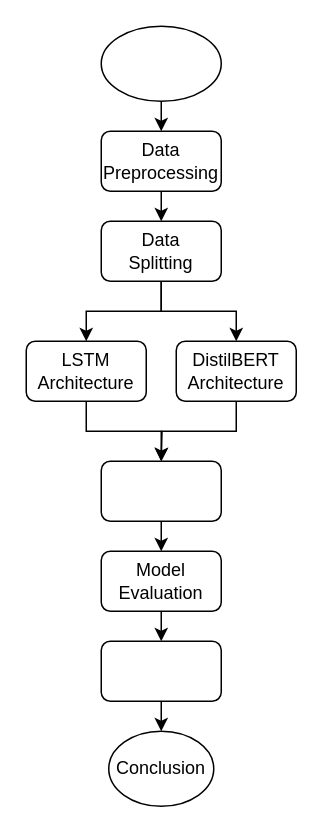
The diagram is 323 pixels wide and 833 high, and some of its shapes have lost their labels. Here are the shapes that lost their labels. From the top down, the centre of each, then its label:
At pixel 160 63: "Dataset".
At pixel 160 490: "Model Training".
At pixel 160 670: "Comparative Analysis".
